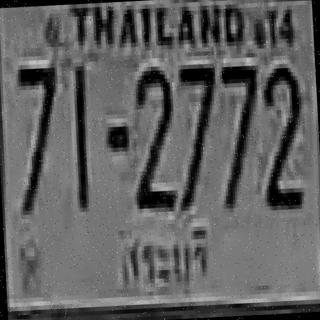N01: (69, 62, 90, 208)
N02: (130, 62, 176, 209), (258, 64, 304, 206)
N07: (14, 60, 61, 211), (173, 59, 220, 207), (217, 62, 263, 205)
P60: (110, 220, 214, 304)
